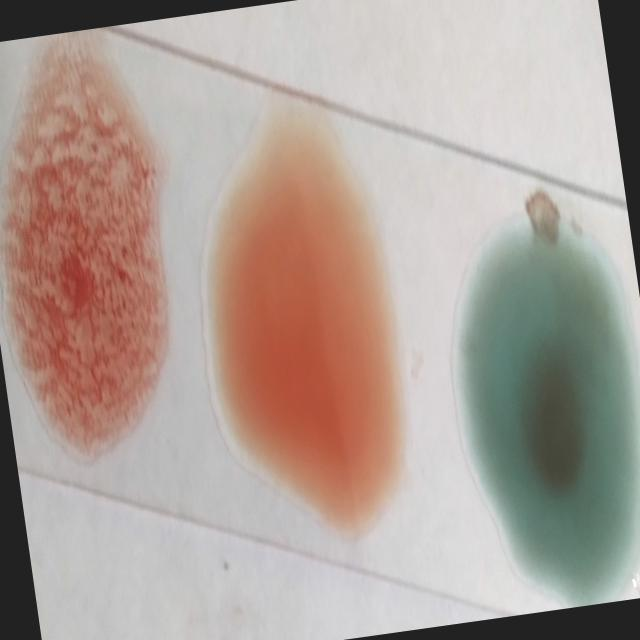D: (0, 55, 174, 466)
